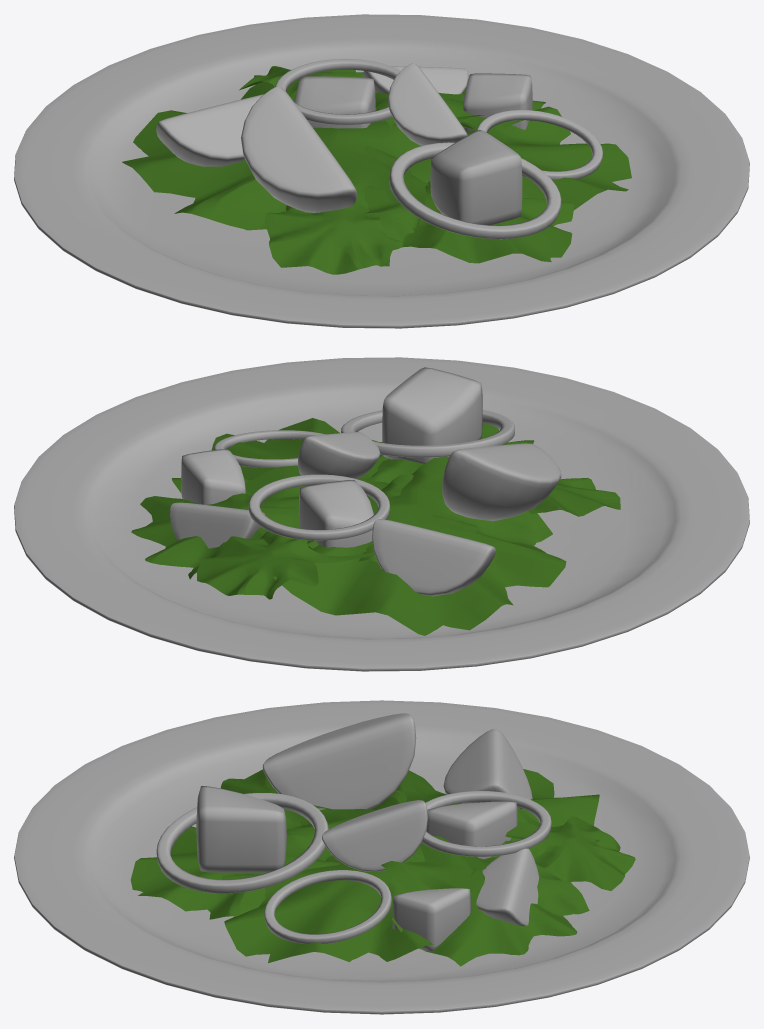
The model's file is Mesh_salad.fbx.
3 views of the same model, one above another, from view 1: azimuth 30°, elevation 25°; view 2: azimuth 150°, elevation 25°; view 3: azimuth 270°, elevation 25° (orthographic).
Parts seen in each view (by area): view 1: Mesh_salad; view 2: Mesh_salad; view 3: Mesh_salad.
Part boxes in pixels (x1,y1,x2,y2): Mesh_salad: (14,14,749,328); Mesh_salad: (14,357,749,671); Mesh_salad: (14,700,749,1014).
Size of the model in its own units: 75.89 by 15.03 by 75.89.
